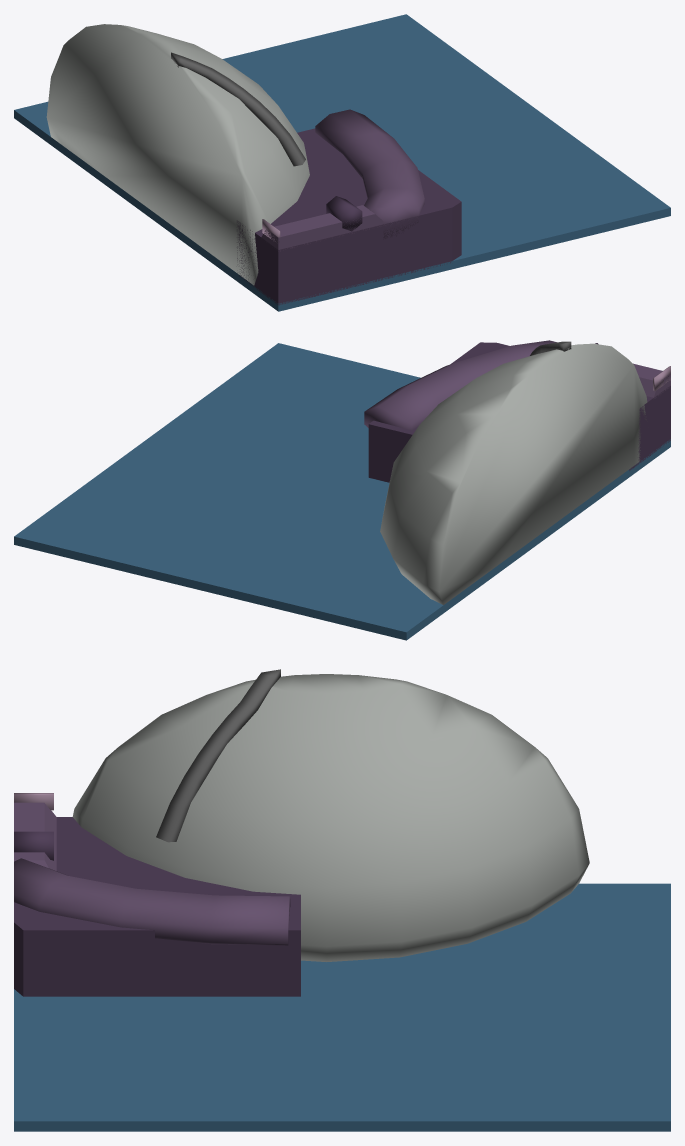
The model's file is newsh7-163.glb.
3 views of the same model, one above another, from view 1: azimuth 30°, elevation 25°; view 2: azimuth 150°, elevation 25°; view 3: azimuth 270°, elevation 25° (orthographic). The views are drawn at different scales.
Visible parts, largest first — view 1: newsh7-163; view 2: newsh7-163; view 3: newsh7-163.
Part boxes in pixels (x1,y1,x2,y2): newsh7-163: (14, 14, 670, 311); newsh7-163: (14, 340, 670, 640); newsh7-163: (14, 669, 670, 1131).
Size of the model in its own units: 2 by 0.8777 by 2.33.
